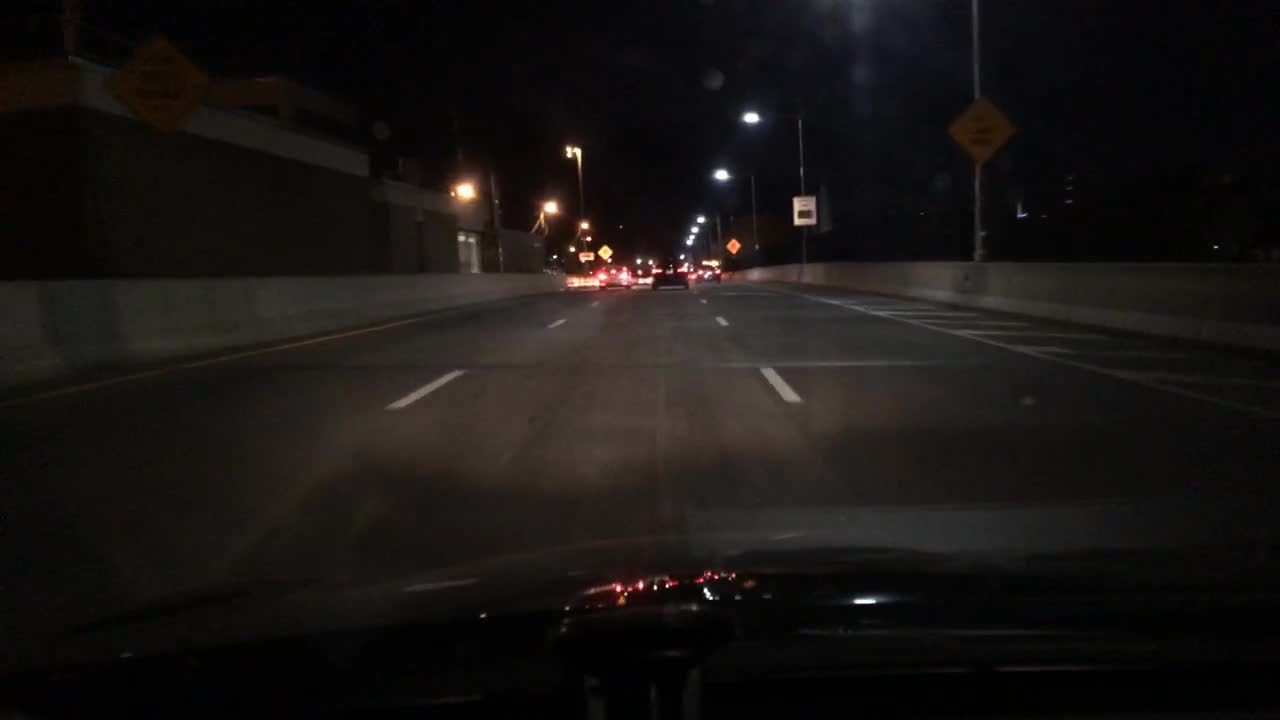car: (650, 258, 693, 288), (599, 261, 632, 289), (630, 262, 652, 284), (697, 263, 721, 283)
traffic sign: (114, 34, 213, 135), (948, 96, 1019, 165), (792, 196, 817, 225), (725, 236, 742, 255), (596, 244, 613, 258), (579, 251, 594, 261)
